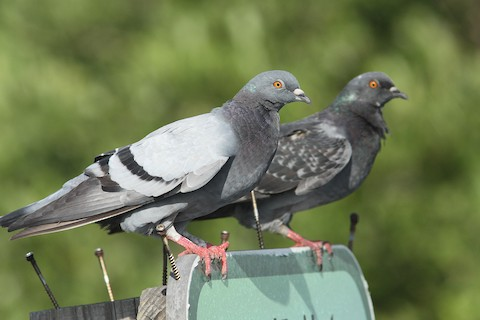pigeon: (5, 62, 313, 282), (150, 67, 417, 275)
